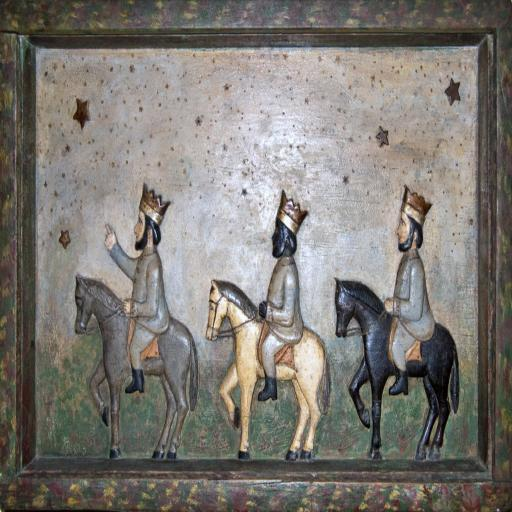horse: (206, 278, 330, 464), (336, 276, 460, 462), (75, 272, 198, 458)
